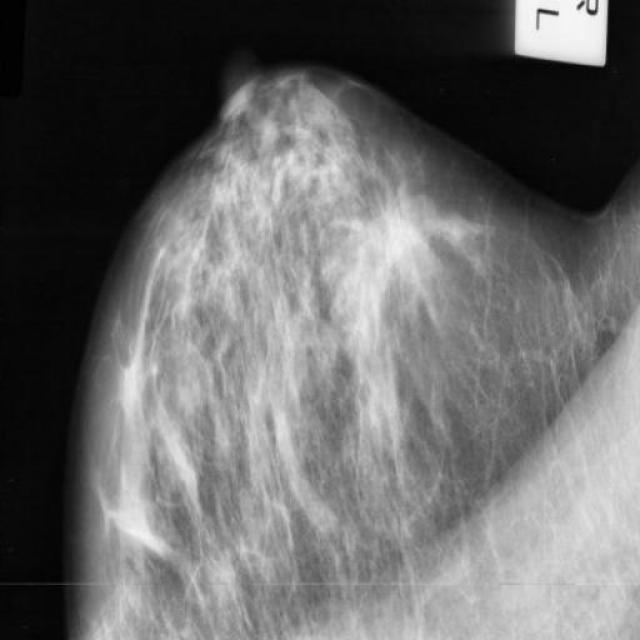cancer: (334, 334, 428, 496)
